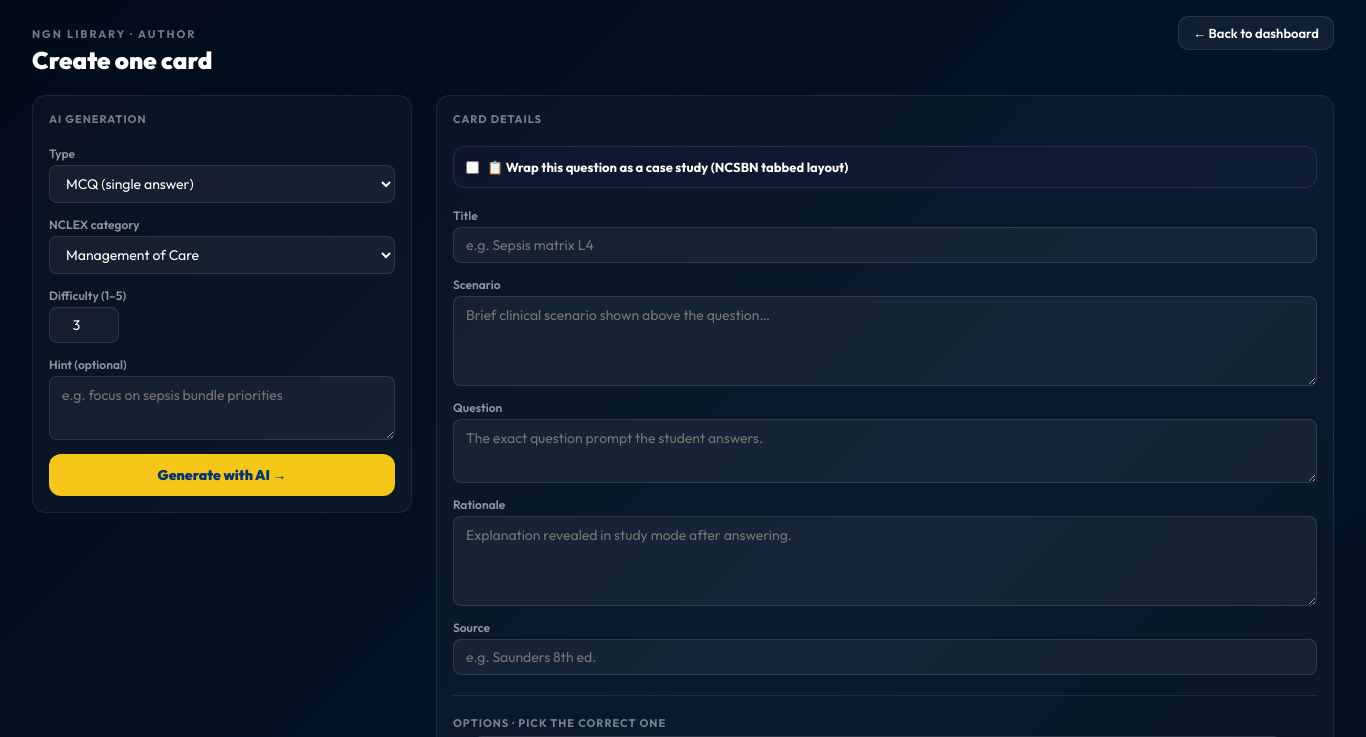
Test: NGNCreateScreen › switching the type swaps the active form
Note: Switch to bow-tie.
Select "Bow-tie" in the dropdown named "Question type" at (222, 184), box [49,165,395,203]
(page scrolled)
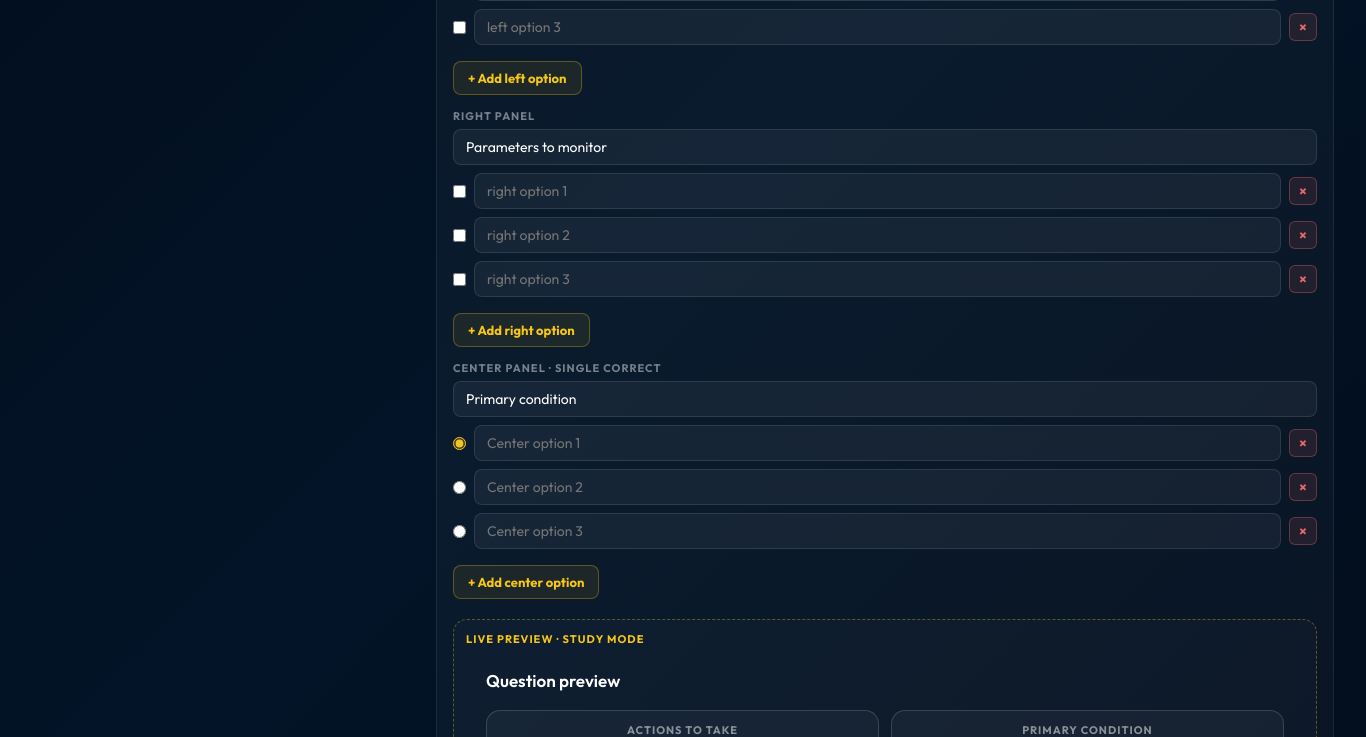
expect the text "Center panel · single correct" is shown: met, box [453,361,662,375]
